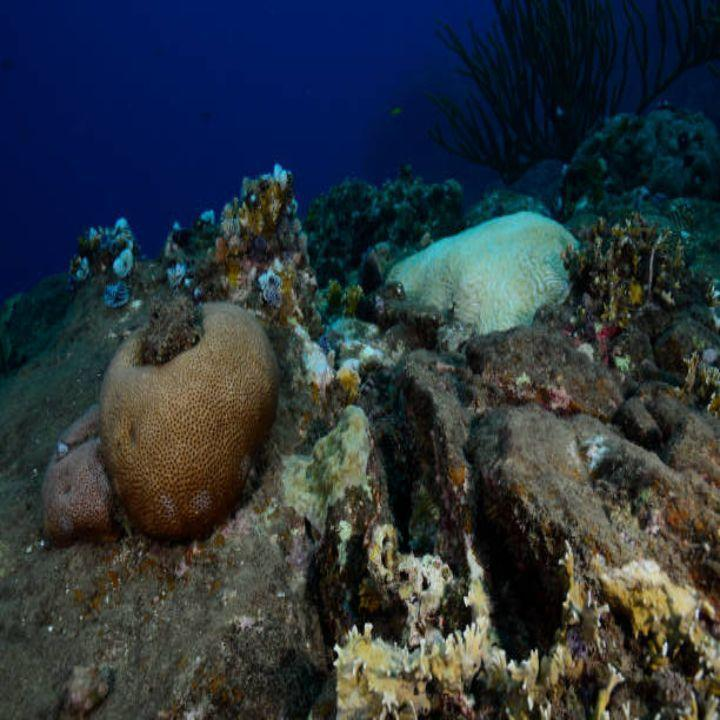Bleached disease: (379, 202, 594, 352)
Healthy Coral: (56, 271, 308, 563)
